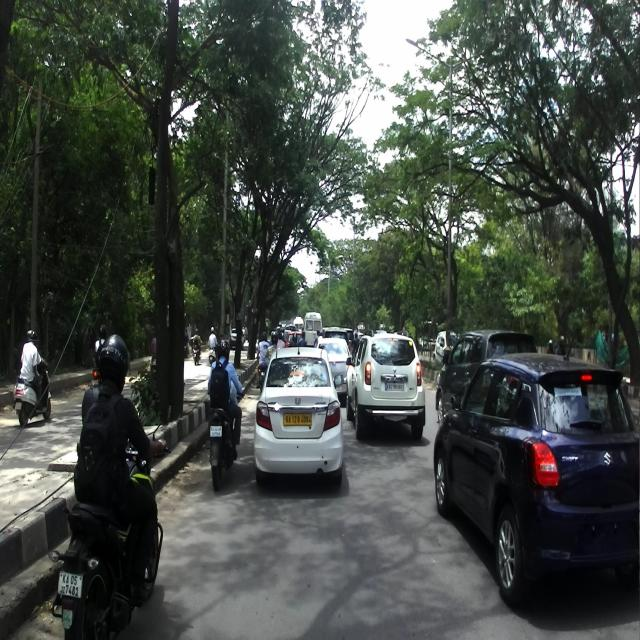Car_Honda: (253, 346, 343, 487)
Car_Maruti-Suzuki: (432, 352, 640, 608)
Car_Renault: (345, 328, 426, 441)
Car_Toyota: (435, 327, 538, 426)
motorcycle: (206, 386, 244, 492)
motorcycle_Honda: (46, 402, 171, 638)
scooter: (13, 355, 52, 425)
